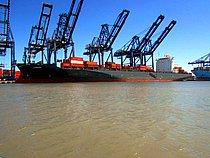Ship: (16, 56, 195, 85)
